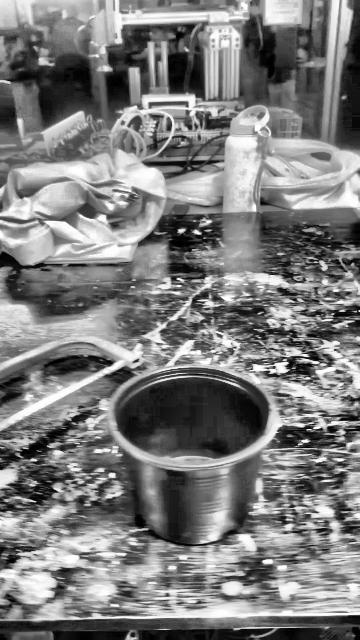pot: (111, 367, 272, 544)
